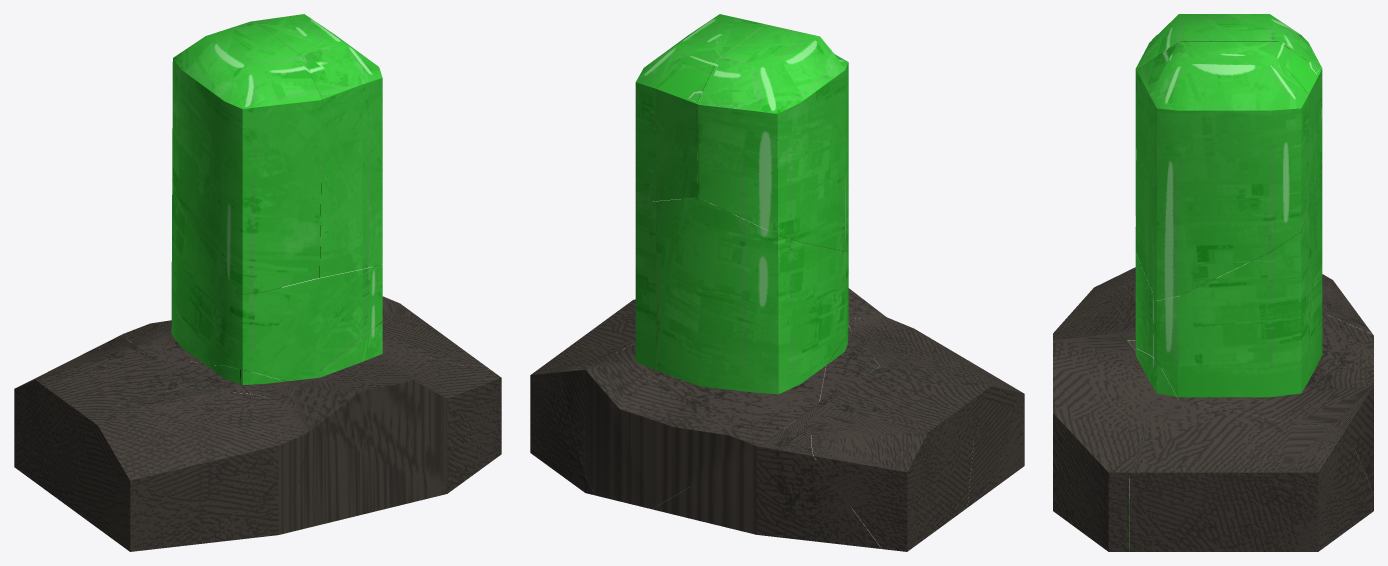
The model's file is Item3Break.fbx.
3 renders of one model, left to right at view 1: azimuth 30°, elevation 25°; view 2: azimuth 150°, elevation 25°; view 3: azimuth 270°, elevation 25°, orthographic. The views are drawn at different scales.
Visible parts, largest first — view 1: item3_cell.004, item3_cell.001, item3_cell.009, item3_cell.005, item3_cell.002, item3_cell.006, item3_cell.007, item3_cell.008, item3_cell.003; view 2: item3_cell.005, item3_cell.004, item3_cell.006, item3_cell, item3_cell.002, item3_cell.001, item3_cell.007, item3_cell.008, item3_cell.009; view 3: item3_cell.002, item3_cell.005, item3_cell.007, item3_cell.009, item3_cell.004, item3_cell.001, item3_cell.006, item3_cell.
Boxes of the visible parts, left/top/right/bottom form: item3_cell.004: left=172, top=21, right=322, bottom=294; item3_cell.001: left=74, top=387, right=309, bottom=551; item3_cell.009: left=289, top=322, right=501, bottom=532; item3_cell.005: left=121, top=178, right=382, bottom=383; item3_cell.002: left=254, top=14, right=382, bottom=277; item3_cell.006: left=14, top=345, right=181, bottom=510; item3_cell.007: left=382, top=296, right=490, bottom=370; item3_cell.008: left=141, top=348, right=248, bottom=393; item3_cell.003: left=240, top=369, right=300, bottom=399; item3_cell.005: left=558, top=197, right=848, bottom=508; item3_cell.004: left=696, top=24, right=848, bottom=251; item3_cell.006: left=811, top=366, right=977, bottom=551; item3_cell: left=654, top=405, right=881, bottom=548; item3_cell.002: left=635, top=14, right=765, bottom=203; item3_cell.001: left=848, top=314, right=1024, bottom=507; item3_cell.007: left=530, top=307, right=635, bottom=495; item3_cell.008: left=819, top=329, right=879, bottom=400; item3_cell.009: left=623, top=288, right=881, bottom=319; item3_cell.002: left=1135, top=42, right=1321, bottom=300; item3_cell.005: left=1128, top=164, right=1373, bottom=493; item3_cell.007: left=1129, top=400, right=1373, bottom=551; item3_cell.009: left=1053, top=333, right=1178, bottom=551; item3_cell.004: left=1135, top=14, right=1322, bottom=228; item3_cell.001: left=1053, top=267, right=1135, bottom=340; item3_cell.006: left=1322, top=274, right=1357, bottom=314; item3_cell: left=1322, top=306, right=1372, bottom=333.
Size of the model in its own units: 385 by 402 by 273.
